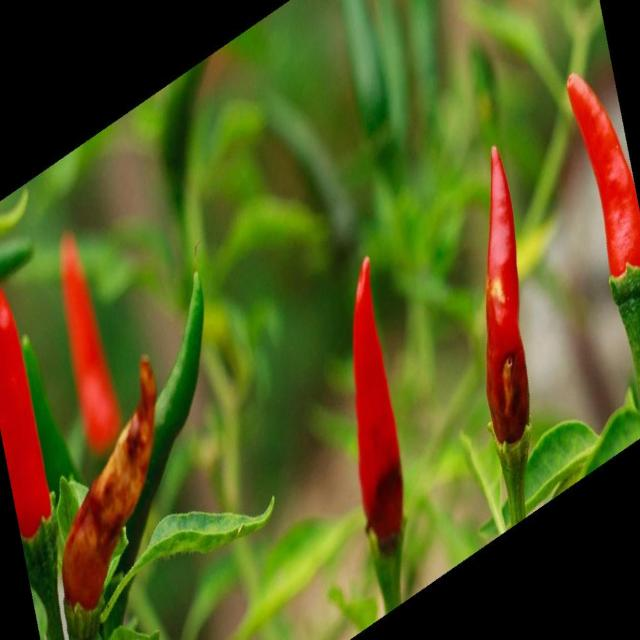Moko: (466, 102, 543, 509)
